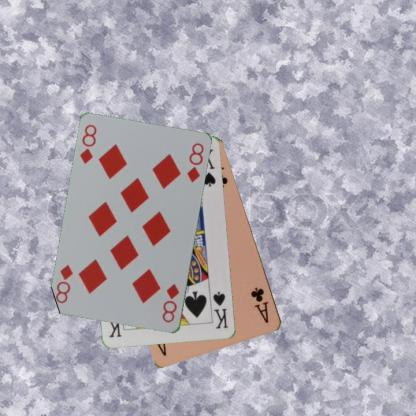8d: (160, 282, 181, 324), (78, 122, 98, 165)
Ac: (248, 284, 270, 325)
Ks: (210, 289, 230, 330)
